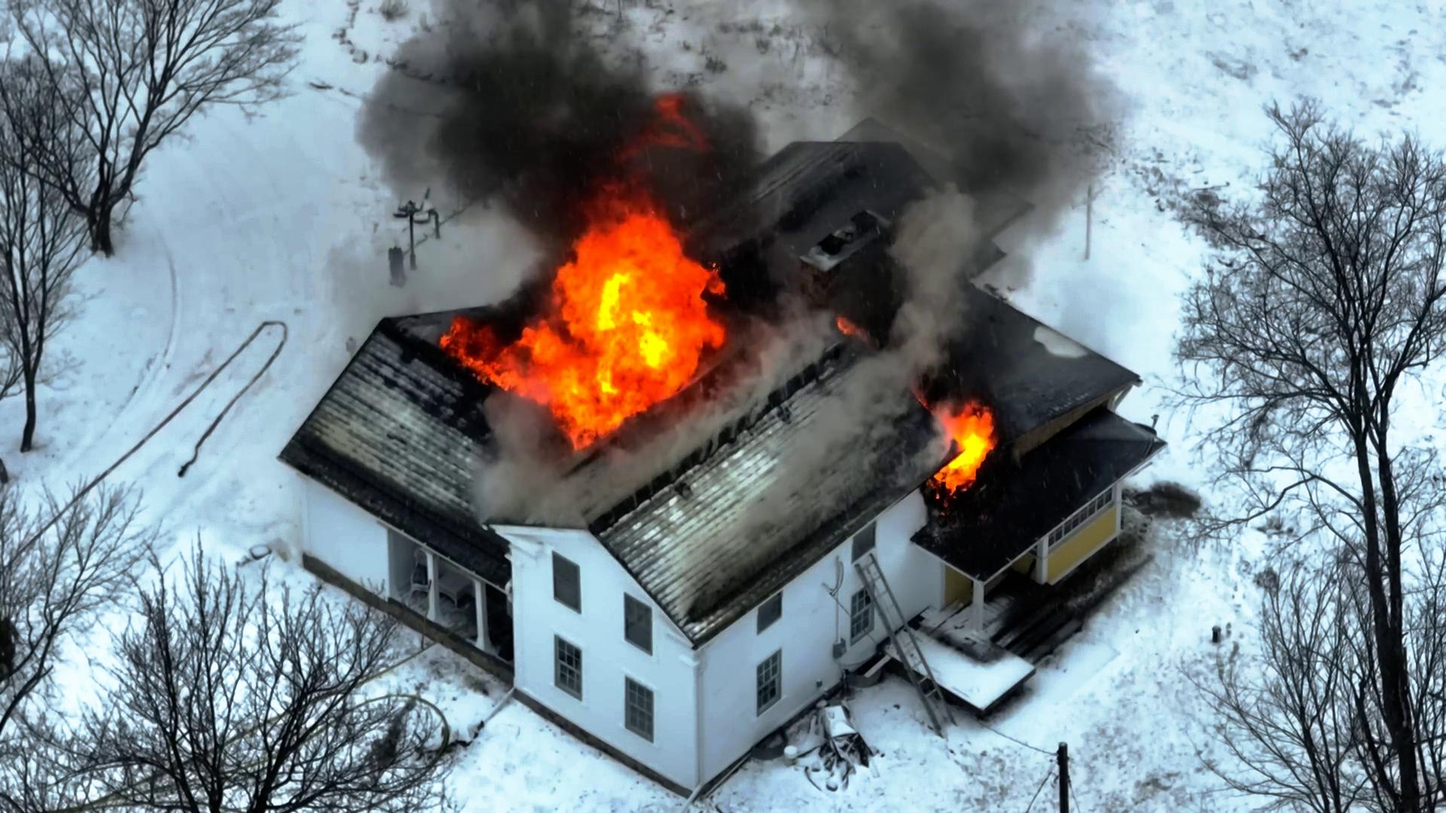fire: (554, 190, 728, 399), (452, 309, 700, 404), (923, 394, 1001, 481)
smoke: (441, 42, 600, 165)
